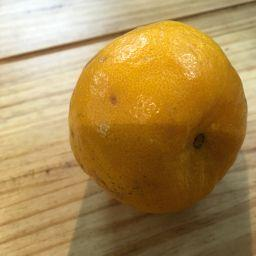Unripe: (71, 21, 249, 214)
